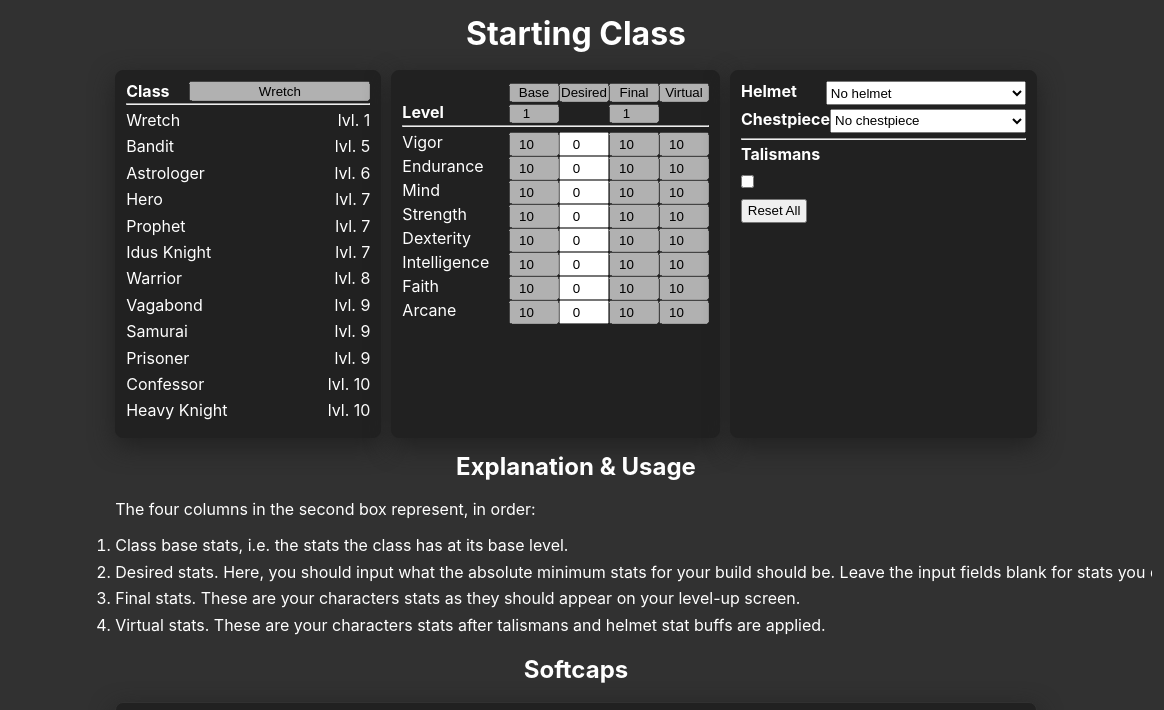
Test: Class Page › class stat is less than desired stat
Replace the text in the number field with id "desired-VIG" with "99" at (584, 144), box [559,132,609,156]
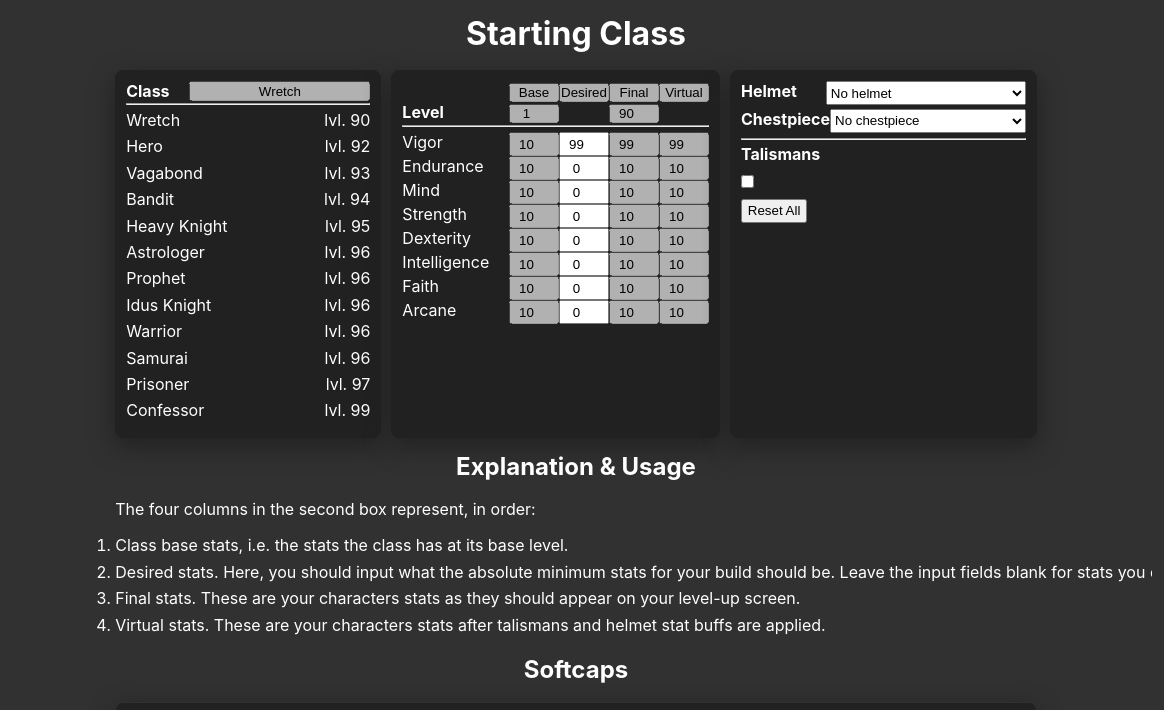
Expected: the number field with id "final-VIG" holds "99", [609,132,659,156]
